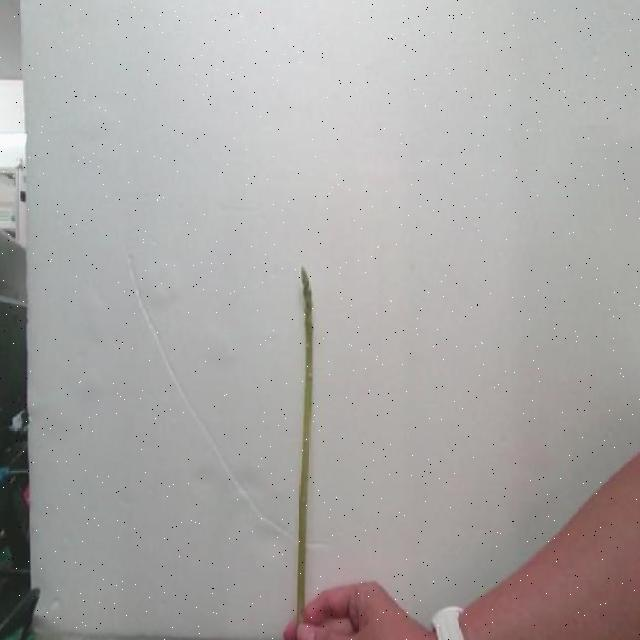aspargus: (296, 271, 315, 613)
